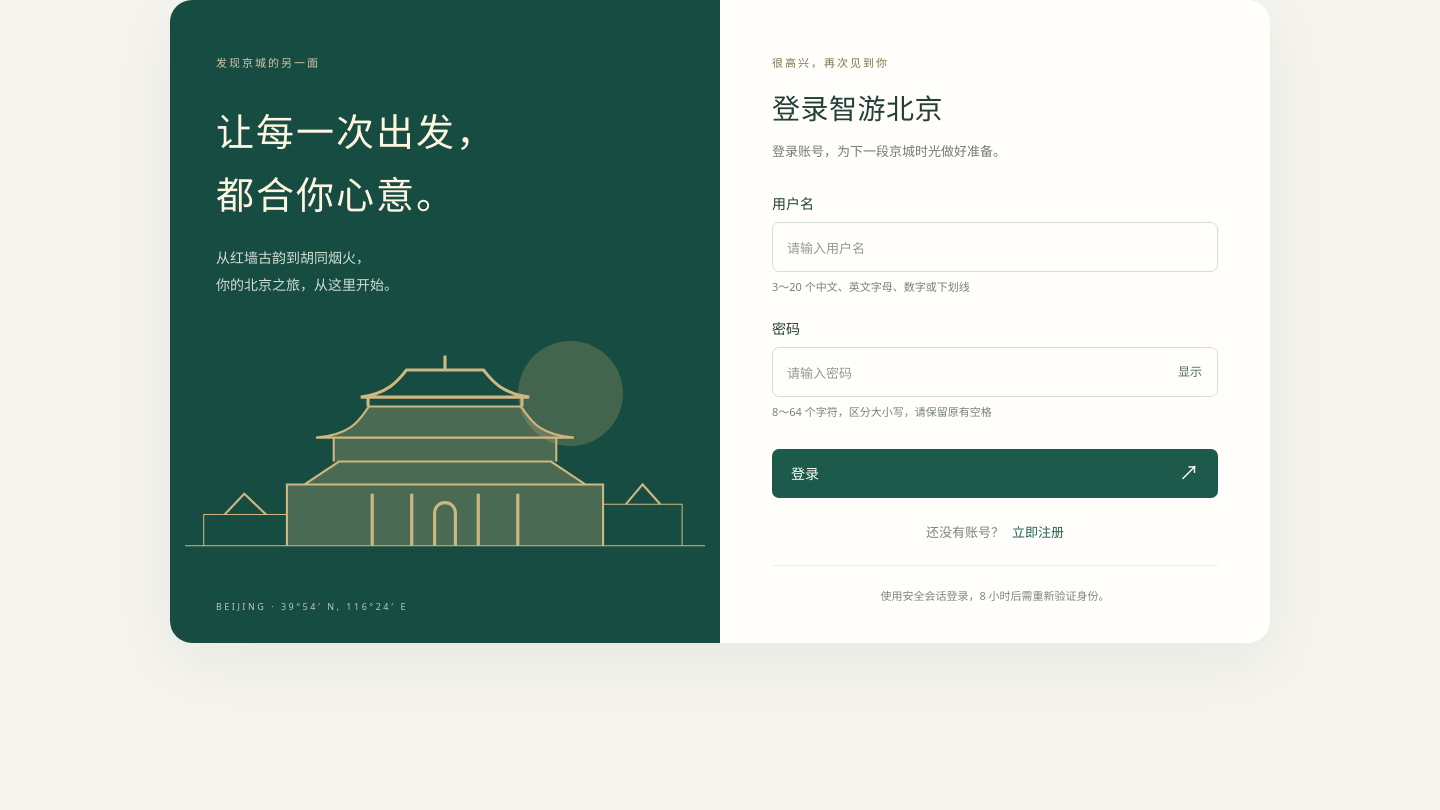
Test case: 账号表单 › 登录失败显示统一提示，网络重试后能继续提交
The image size is (1440, 810).
Type "test_user" into the field with id "username".
click(995, 247); type("test_user")  # box [772,222,1218,272]
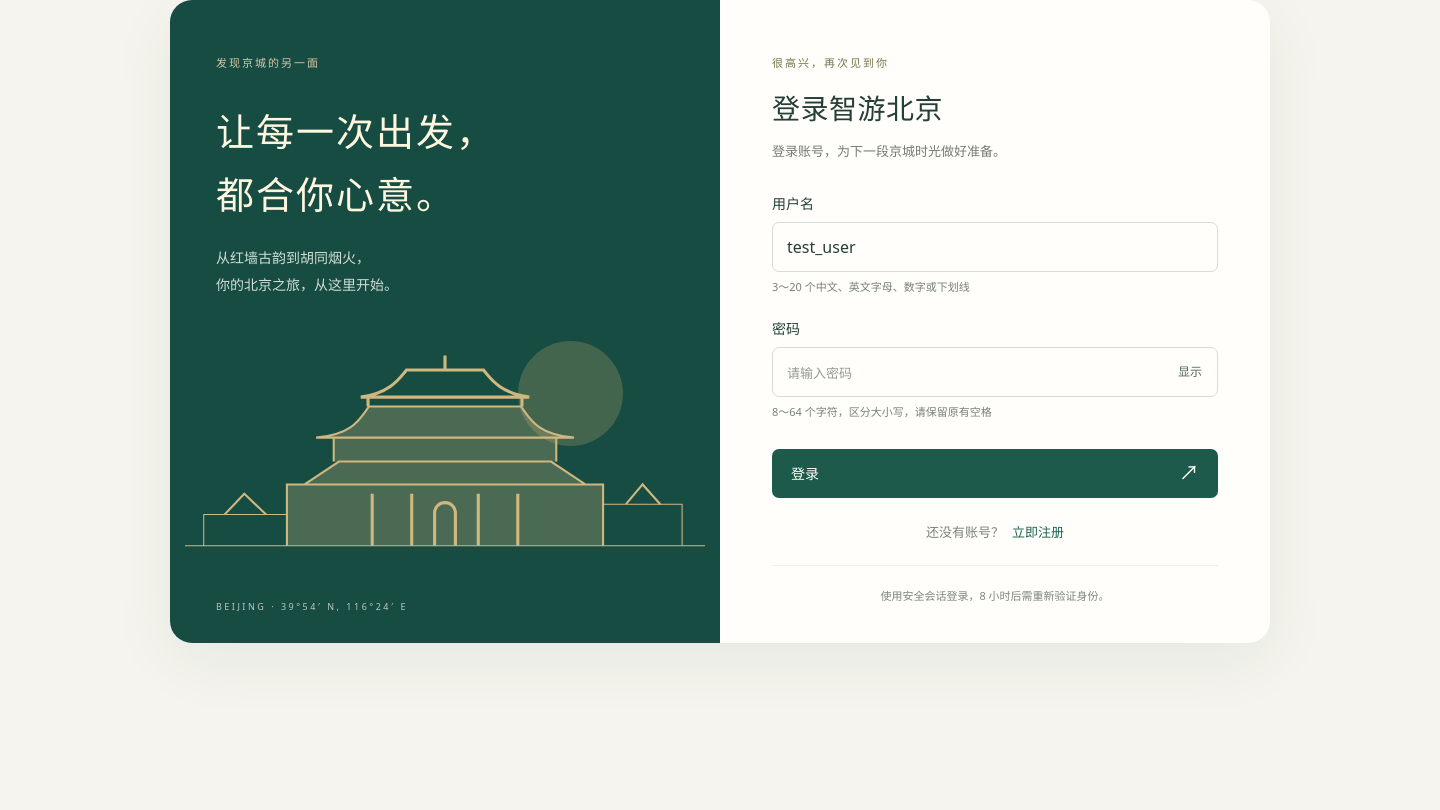
Type "password" into the password field labelled "密码".
click(995, 372); type("password")  # box [772,347,1218,397]
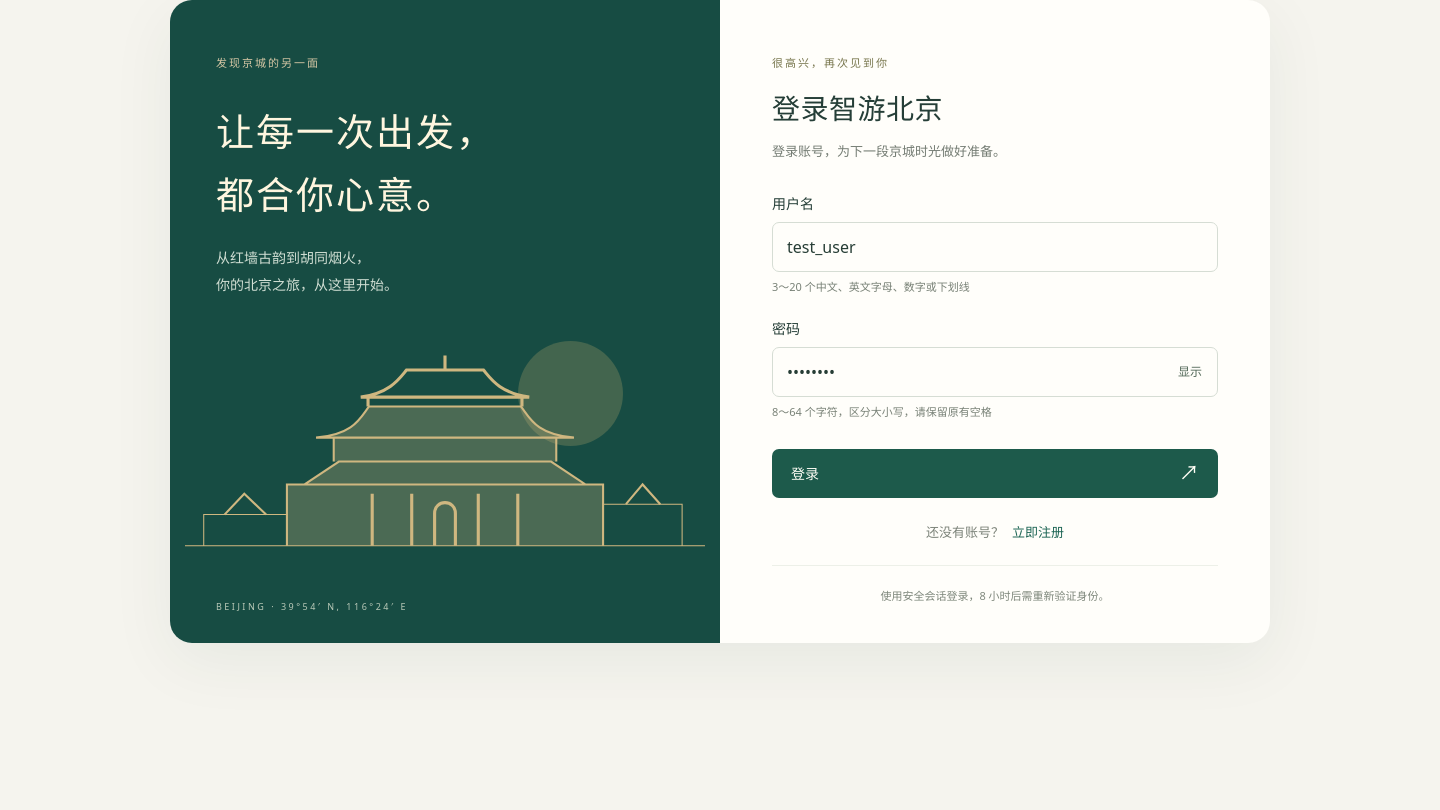
Submit the form, box [772,193,1218,498]
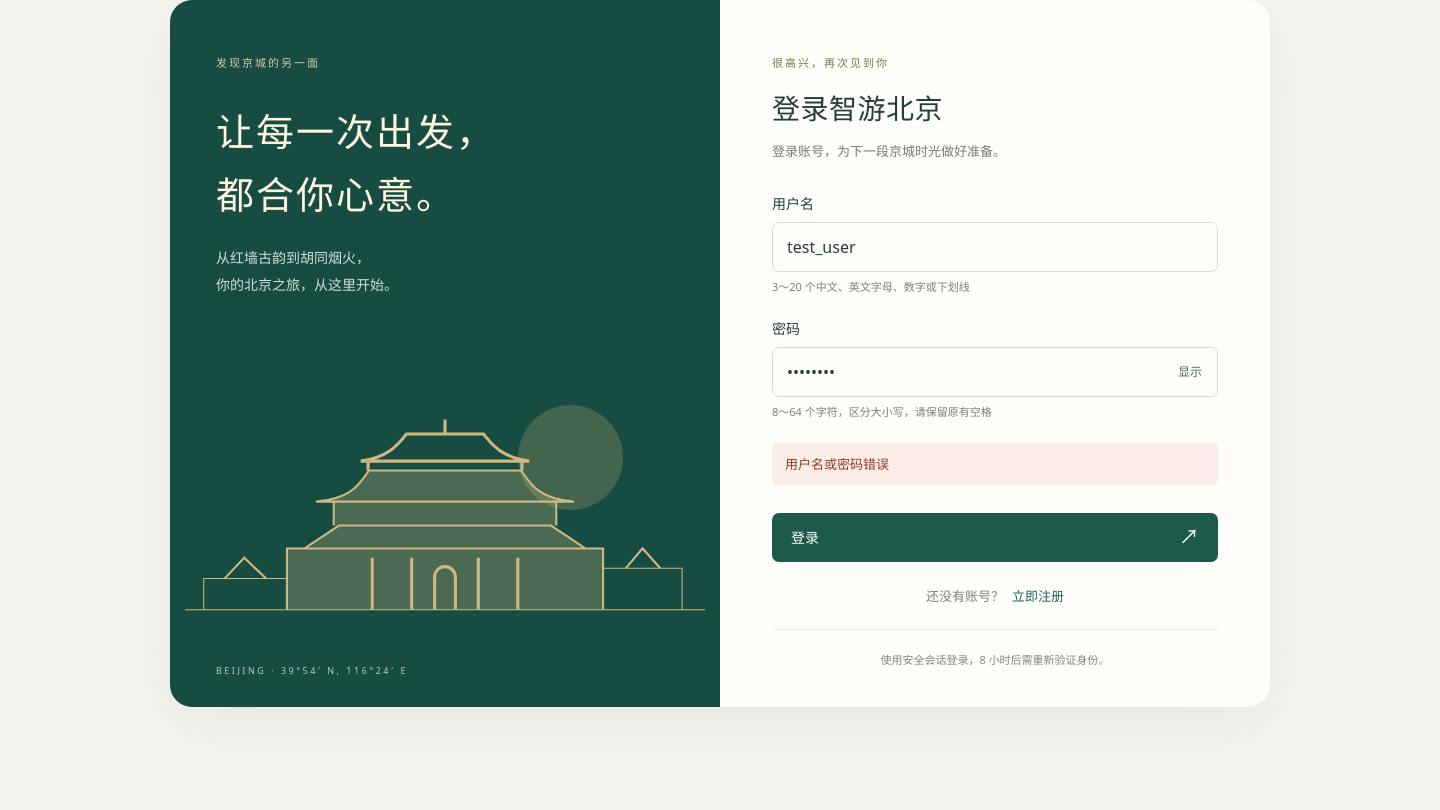
Expected: the submit button is enabled, [772,513,1218,562]
Expected: the text "用户名或密码错误" is shown, [772,443,1218,485]
